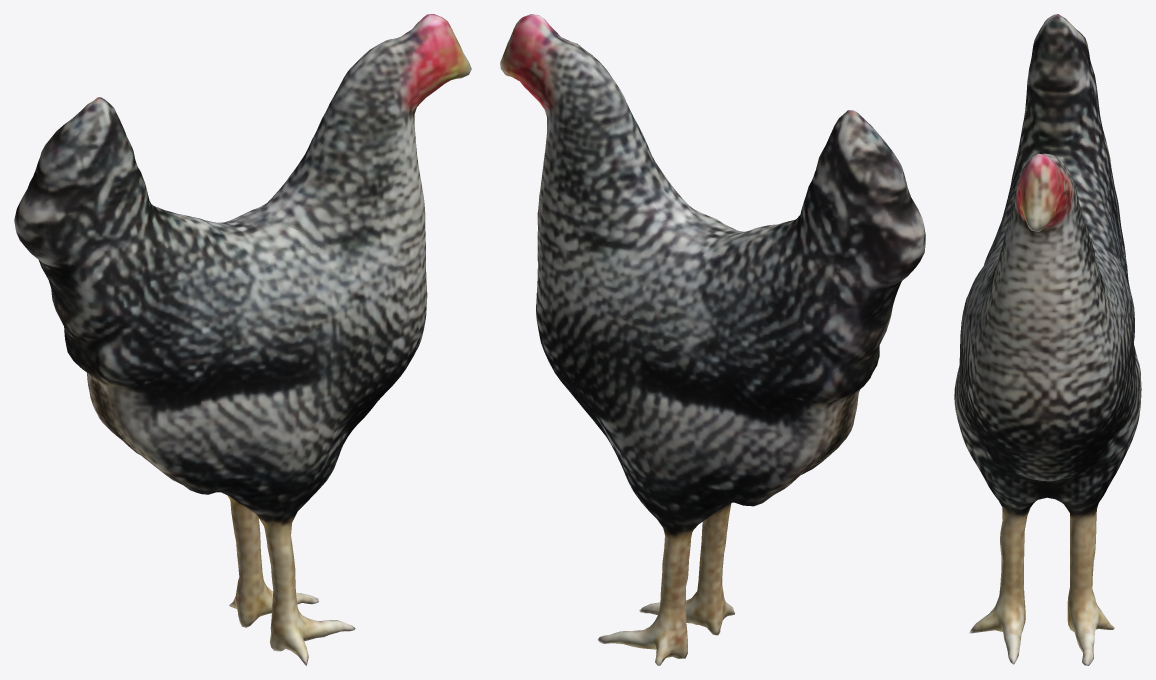
File: adulto.glb
3 views of the same model, side by side, from view 1: azimuth 30°, elevation 25°; view 2: azimuth 150°, elevation 25°; view 3: azimuth 270°, elevation 25° (orthographic). The views are drawn at different scales.
Parts seen in each view (by area): view 1: mesh; view 2: mesh; view 3: mesh.
Part boxes in pixels (x1,y1,x2,y2): mesh: [14, 14, 471, 665]; mesh: [500, 14, 925, 665]; mesh: [954, 14, 1141, 665].
Bounding box in the file's own units: 1.29 × 1.67 × 0.5091.
1 material, 1 textured.
